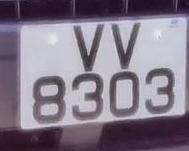0: (103, 65, 145, 121)
3: (65, 69, 108, 125), (141, 64, 179, 119)
8: (26, 68, 71, 129)
V: (70, 19, 108, 74), (108, 18, 145, 71)
